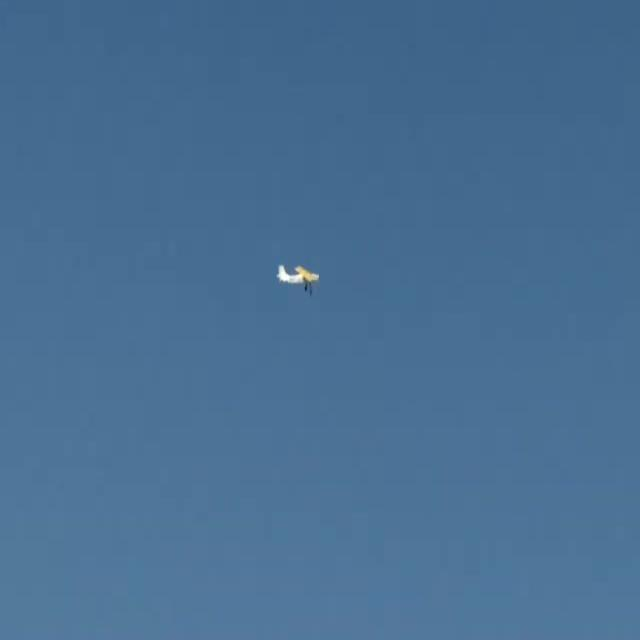iha: (276, 264, 321, 296)
